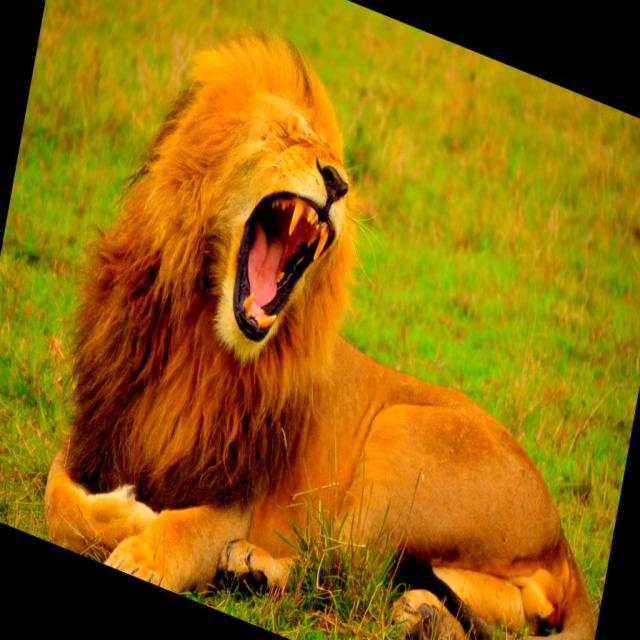Lion: (29, 0, 639, 639)
